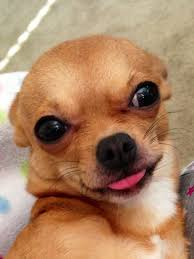chihuahua: (7, 33, 191, 259)
